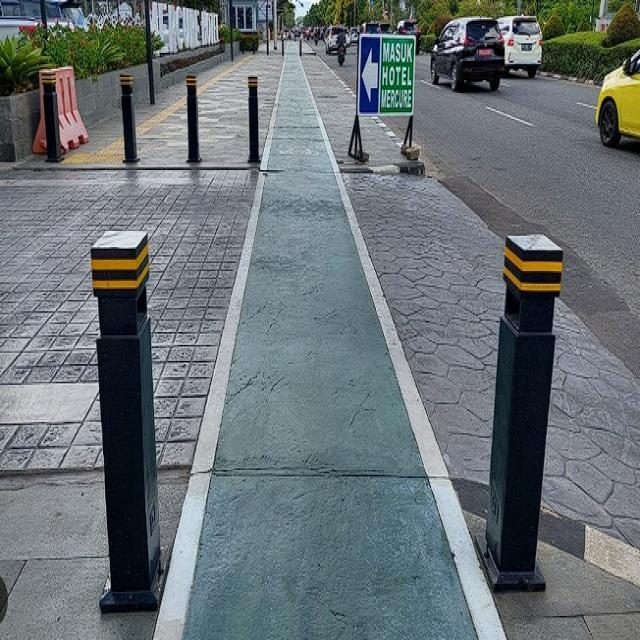obstacle: (89, 222, 164, 604), (487, 227, 567, 579), (114, 69, 140, 164), (243, 72, 264, 166), (182, 70, 202, 166), (42, 66, 61, 166)
